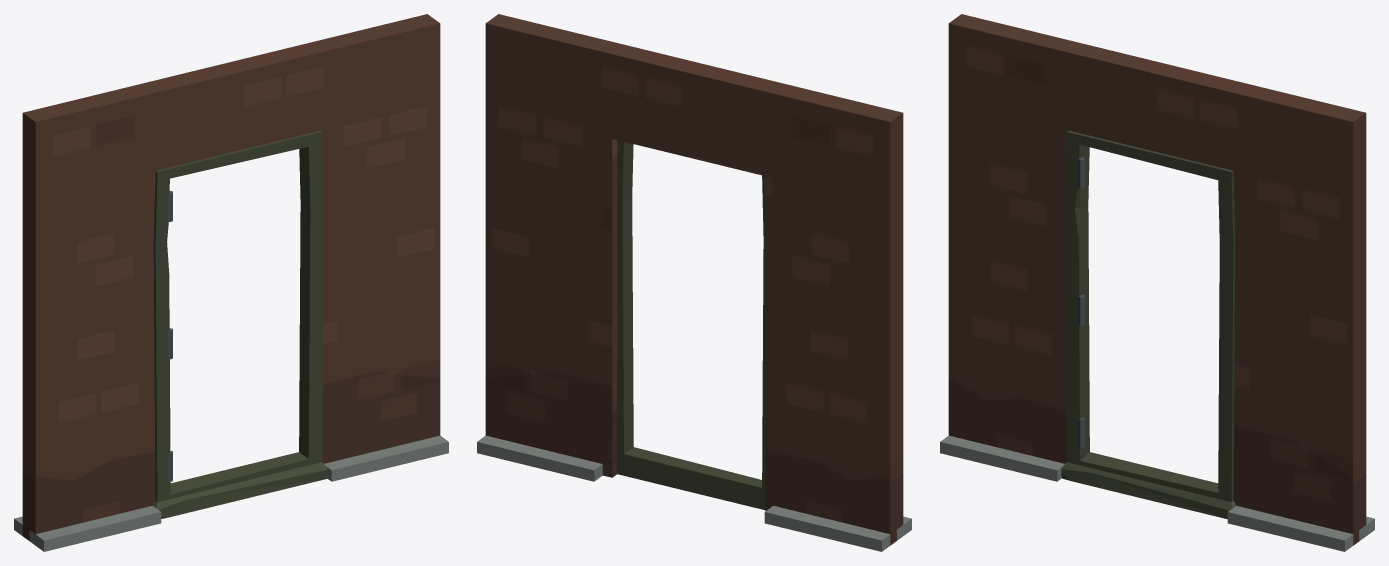
The model's file is SM_Bld_Interior_Wall_Door_01.obj.
3 renders of one model, left to right at view 1: azimuth 30°, elevation 25°; view 2: azimuth 150°, elevation 25°; view 3: azimuth 330°, elevation 25°, orthographic.
Parts seen in each view (by area): view 1: SM_Bld_Interior_Wall_Door_01_0; view 2: SM_Bld_Interior_Wall_Door_01_0; view 3: SM_Bld_Interior_Wall_Door_01_0.
Part boxes in pixels (<box>): SM_Bld_Interior_Wall_Door_01_0: <box>14,14,448,551</box>; SM_Bld_Interior_Wall_Door_01_0: <box>477,14,911,551</box>; SM_Bld_Interior_Wall_Door_01_0: <box>940,14,1374,551</box>.
Size of the model in its own units: 3 by 3 by 0.3855.
1 material, 1 textured.
